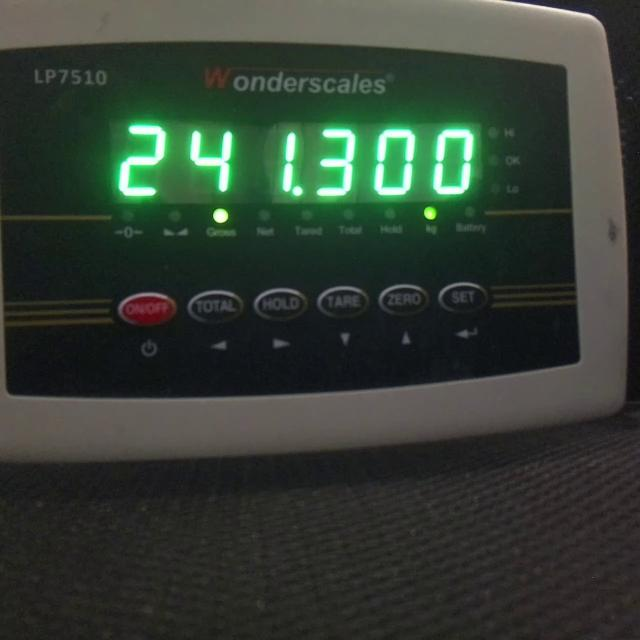.: (292, 186, 302, 196)
0: (374, 128, 415, 195), (433, 128, 474, 195)
1: (281, 130, 297, 196)
2: (117, 124, 165, 196)
3: (315, 128, 355, 197)
4: (190, 128, 232, 193)
